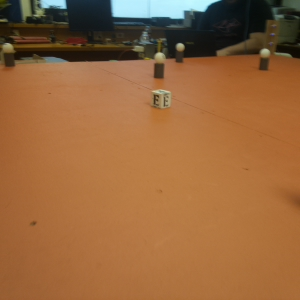blockE: (150, 88, 171, 109)
corner: (265, 19, 279, 55)
obstacle: (3, 42, 15, 70), (153, 52, 165, 79), (259, 48, 270, 71), (174, 43, 185, 64)
